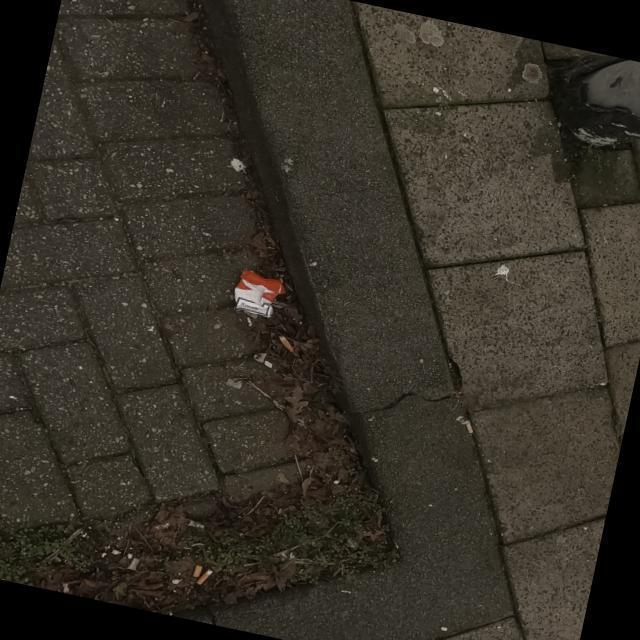Paper: (232, 266, 288, 320)
